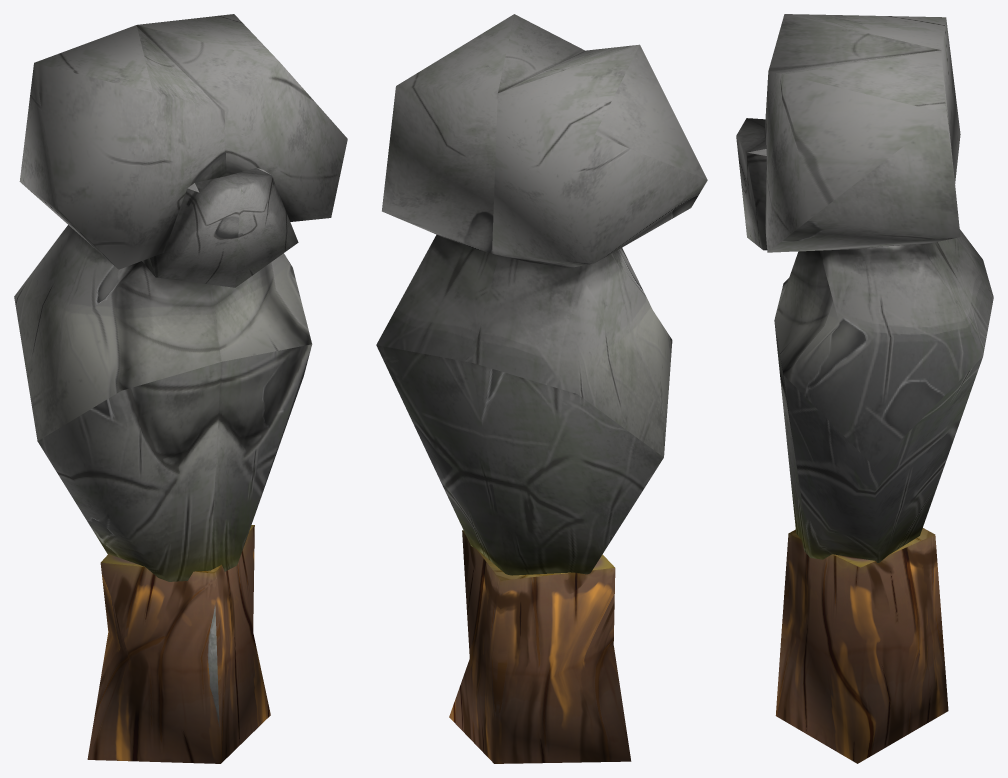
The model's file is 6_Estatua_LOD_1.fbx.
3 views of the same model, side by side, from view 1: azimuth 30°, elevation 25°; view 2: azimuth 150°, elevation 25°; view 3: azimuth 270°, elevation 25° (orthographic).
Parts seen in each view (by area): view 1: 6_Estatua_LOD_1; view 2: 6_Estatua_LOD_1; view 3: 6_Estatua_LOD_1.
Boxes of the visible parts, x1=… form: 6_Estatua_LOD_1: x1=14, y1=14, x2=347, y2=763; 6_Estatua_LOD_1: x1=376, y1=14, x2=707, y2=763; 6_Estatua_LOD_1: x1=736, y1=14, x2=993, y2=763.
Bounding box in the file's own units: 105 × 239 × 82.62.
